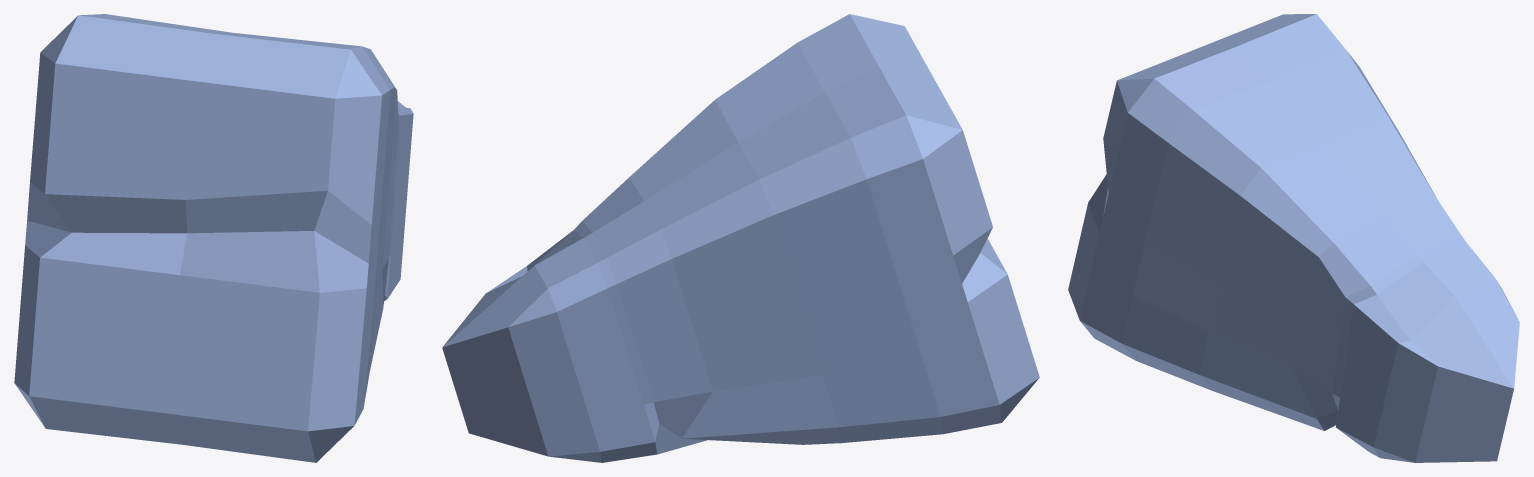
File: Vampire_Assets_RockArc.fbx
3 views of the same model, side by side, from view 1: azimuth 30°, elevation 25°; view 2: azimuth 150°, elevation 25°; view 3: azimuth 270°, elevation 25° (orthographic). The views are drawn at different scales.
Visible parts, largest first — view 1: Cube.004; view 2: Cube.004; view 3: Cube.004.
Boxes of the visible parts, x1,y1,x2,y2 form: Cube.004: (14, 14, 413, 462); Cube.004: (442, 14, 1039, 462); Cube.004: (1068, 14, 1519, 462).
Size of the model in its own units: 557 by 414 by 542.
